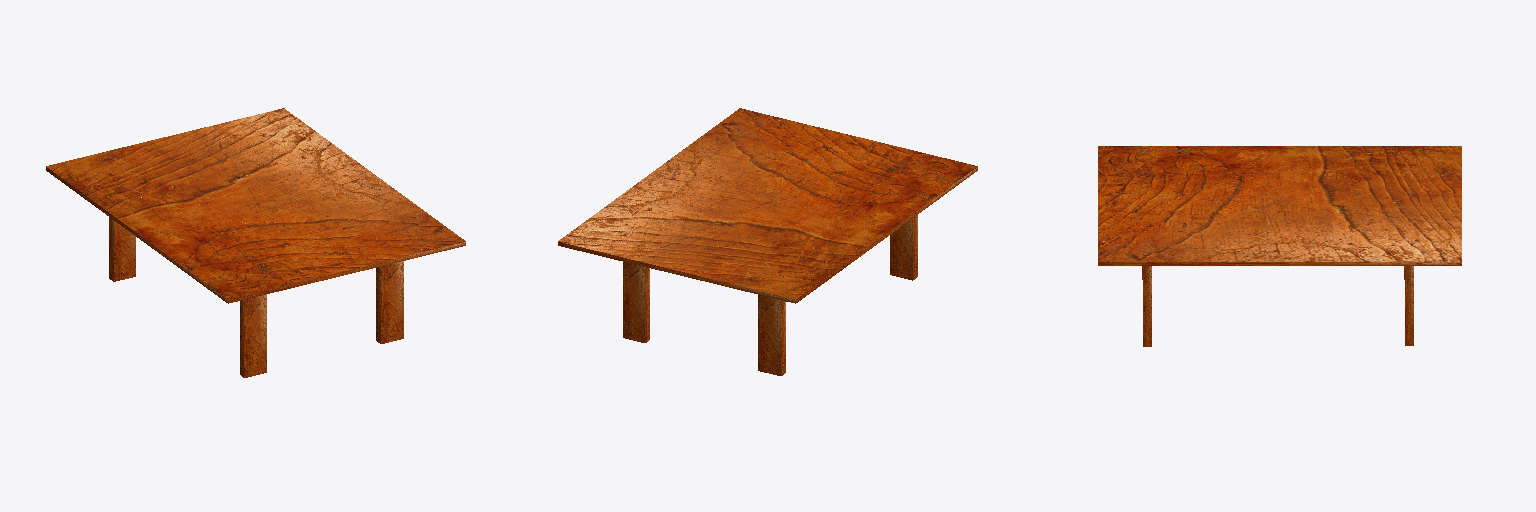
The picture shows the model from 3 angles: view 1: azimuth 30°, elevation 25°; view 2: azimuth 150°, elevation 25°; view 3: azimuth 270°, elevation 25°; orthographic projection.
Bounding box in the file's own units: 1.18 × 0.494 × 1.57.
5 materials, 1 textured.